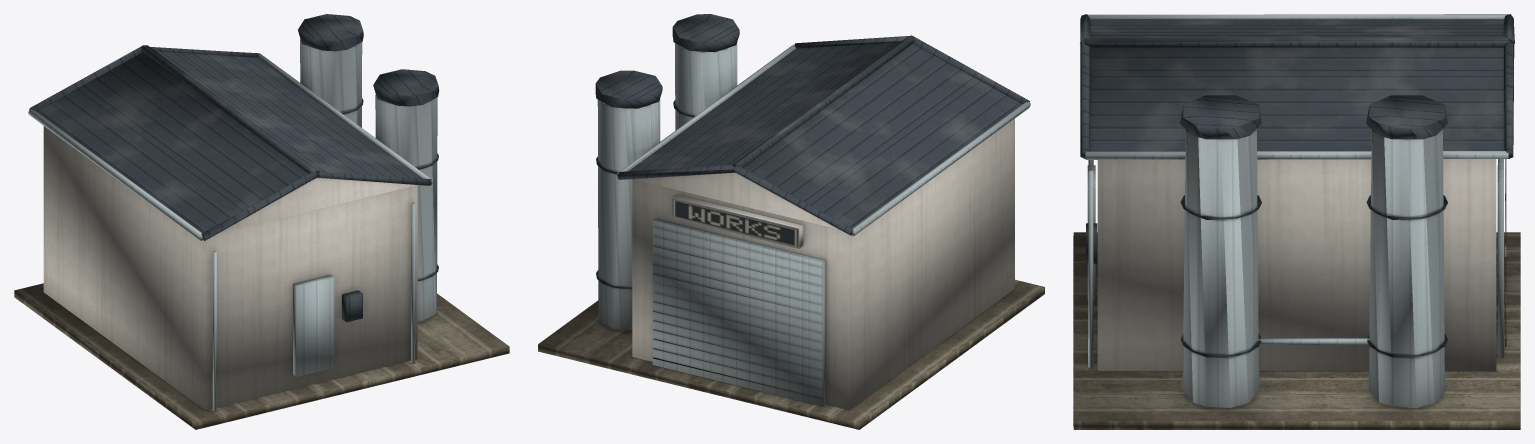
The model's file is factory_004.lod1.obj.
3 renders of one model, left to right at view 1: azimuth 30°, elevation 25°; view 2: azimuth 150°, elevation 25°; view 3: azimuth 270°, elevation 25°, orthographic. The views are drawn at different scales.
Visible parts, largest first — view 1: factory_004; view 2: factory_004; view 3: factory_004.
Part boxes in pixels (box(x1,y1,x2,y2)): factory_004: box(14, 14, 509, 429); factory_004: box(538, 14, 1044, 429); factory_004: box(1073, 14, 1520, 429).
Bounding box in the file's own units: 6.5 × 4.7 × 6.5.
1 material, 1 textured.
